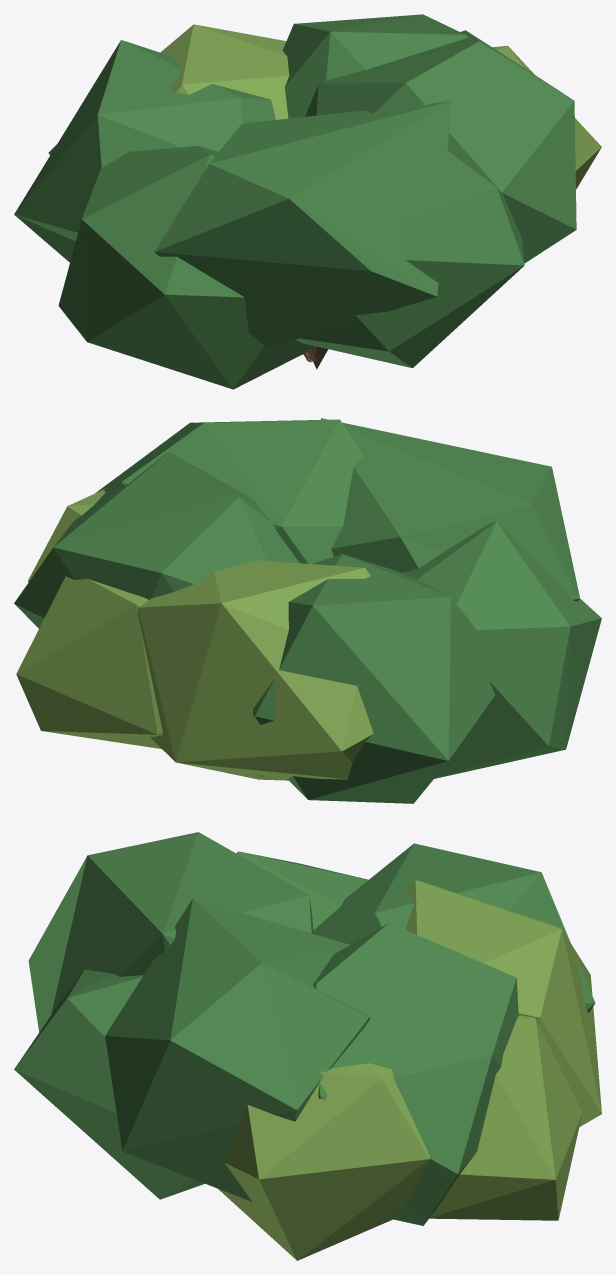
Rendered from bush_low.glb.
The picture shows the model from 3 angles, top to bottom: view 1: azimuth 30°, elevation 25°; view 2: azimuth 150°, elevation 25°; view 3: azimuth 270°, elevation 25°; orthographic projection. The views are drawn at different scales.
Visible parts, largest first — view 1: bush.001; view 2: bush.001; view 3: bush.001.
Boxes of the visible parts, x1,y1,x2,y2 form: bush.001: (14,14,601,389); bush.001: (14,418,601,803); bush.001: (14,832,601,1260).
Bounding box in the file's own units: 2.41 × 1.46 × 2.17.
